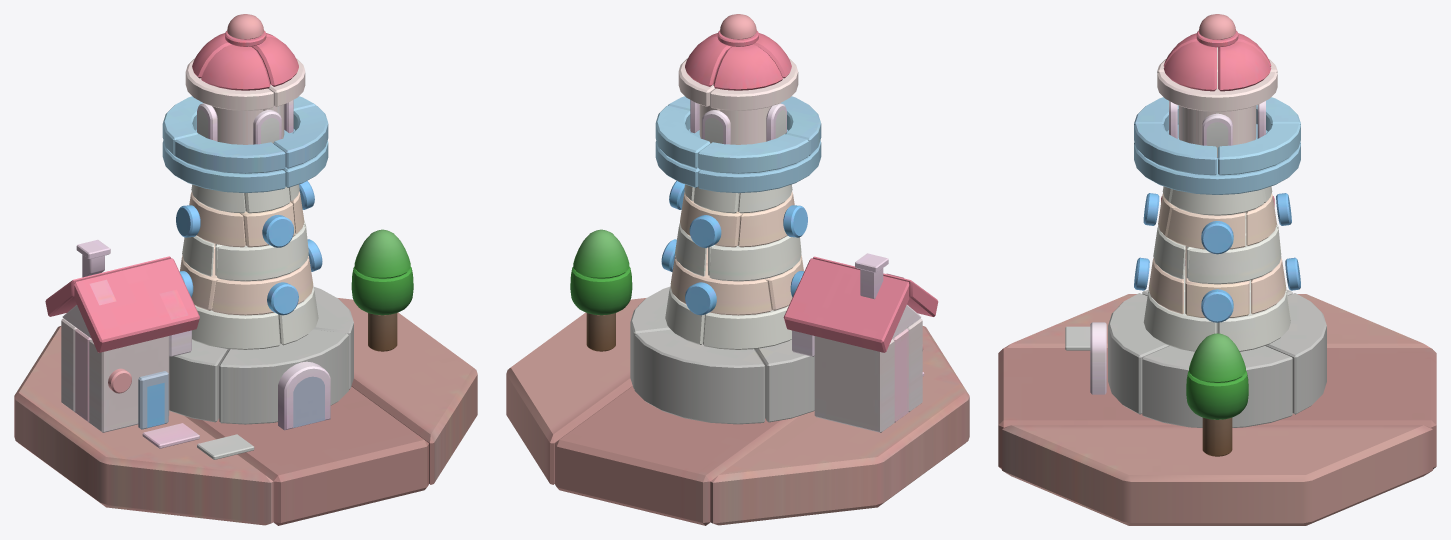
The model's file is level_189.fbx.
3 renders of one model, left to right at view 1: azimuth 30°, elevation 25°; view 2: azimuth 150°, elevation 25°; view 3: azimuth 270°, elevation 25°, orthographic.
Parts seen in each view (by area): view 1: Cube_L4.002, Cube_L4_1.001, Cube_L4_2.001, Cube_L3_6, Cube_L3_17, Cube_L3_4.002, Cube_L3_14, Cube_L1_2.002, Cube_L2_16, Cube_L3_16, Cube_L2_4.002, Cube_L2_11 (+34 smaller); view 2: Cube_L4.002, Cube_L4_1.001, Cube_L4_2.001, Cube_L3_15, Cube_L3_7, Cube_L3_5.001, Cube_L3_14, Cube_L1_3.002, Cube_L2_6.001, Cube_L2_5.002, Cube_L2_13, Cube_L1_1.002 (+30 smaller); view 3: Cube_L4_2.001, Cube_L4_1.001, Cube_L3_18, Cube_L4.002, Cube_L3_17, Cube_L3_15, Cube_L1_18, Cube_L2_20, Cube_L1_16, Cube_L1_17, Cube_L1_15, Cube_L2_21 (+22 smaller).
Part boxes in pixels (x1,y1,x2,y2): Cube_L4.002: (14, 326, 273, 525); Cube_L4_1.001: (185, 386, 428, 525); Cube_L4_2.001: (338, 298, 477, 484); Cube_L3_6: (74, 258, 199, 352); Cube_L3_17: (219, 329, 348, 424); Cube_L3_4.002: (89, 336, 169, 432); Cube_L3_14: (169, 339, 228, 422); Cube_L1_2.002: (175, 134, 285, 173); Cube_L2_16: (217, 226, 308, 281); Cube_L3_16: (278, 361, 330, 430); Cube_L2_4.002: (192, 305, 280, 349); Cube_L2_11: (212, 258, 313, 315); Cube_L4.002: (710, 326, 969, 525); Cube_L4_1.001: (555, 386, 798, 525); Cube_L4_2.001: (506, 298, 645, 484); Cube_L3_15: (634, 329, 764, 424); Cube_L3_7: (783, 258, 909, 352); Cube_L3_5.001: (814, 336, 894, 432); Cube_L3_14: (755, 339, 814, 422); Cube_L1_3.002: (698, 134, 808, 173); Cube_L2_6.001: (709, 235, 801, 281); Cube_L2_5.002: (703, 305, 791, 349); Cube_L2_13: (670, 258, 771, 315); Cube_L1_1.002: (698, 129, 821, 193); Cube_L4_2.001: (1002, 425, 1432, 525); Cube_L4_1.001: (998, 348, 1436, 469); Cube_L3_18: (1142, 346, 1292, 427); Cube_L4.002: (1002, 294, 1432, 349); Cube_L3_17: (1108, 293, 1169, 414); Cube_L3_15: (1265, 293, 1326, 414); Cube_L1_18: (1134, 144, 1300, 194); Cube_L2_20: (1188, 228, 1281, 284); Cube_L1_16: (1134, 123, 1216, 175); Cube_L1_17: (1218, 123, 1300, 175); Cube_L1_15: (1157, 72, 1277, 111); Cube_L2_21: (1143, 292, 1216, 351).
Size of the model in its own units: 21.73 by 22.89 by 21.69.
